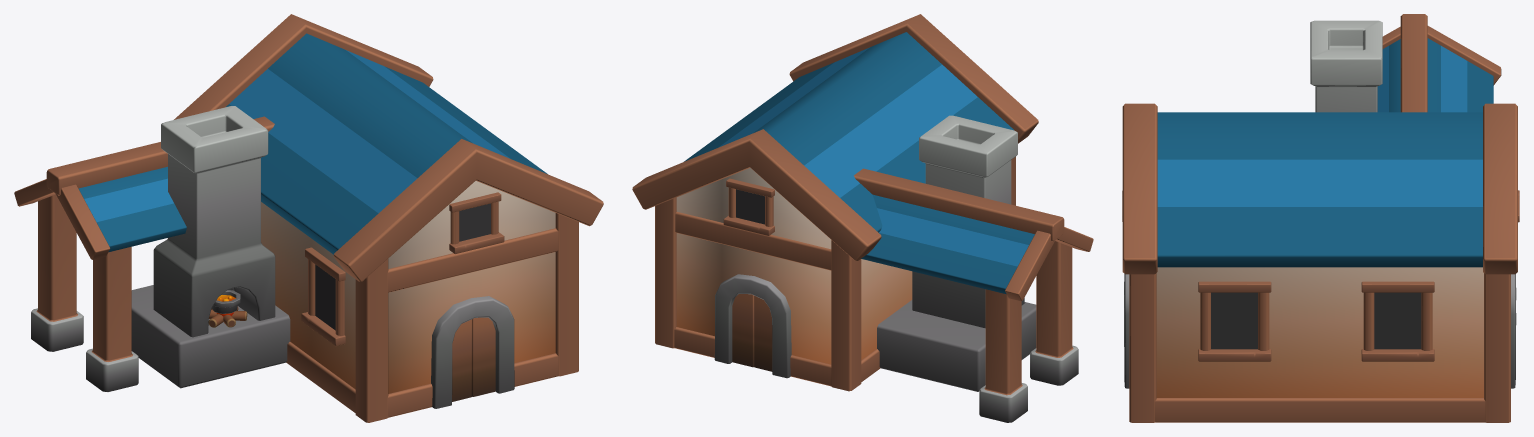
File: WorkSpaceHouse_2.fbx
3 renders of one model, left to right at view 1: azimuth 30°, elevation 25°; view 2: azimuth 150°, elevation 25°; view 3: azimuth 270°, elevation 25°, orthographic. The views are drawn at different scales.
Parts seen in each view (by area): view 1: WorkSpaceHouse_2; view 2: WorkSpaceHouse_2; view 3: WorkSpaceHouse_2.
Boxes of the visible parts, x1,y1,x2,y2 form: WorkSpaceHouse_2: (14,14,603,422); WorkSpaceHouse_2: (632,14,1093,422); WorkSpaceHouse_2: (1122,14,1519,422).
Bounding box in the file's own units: 549 × 318 × 431.
